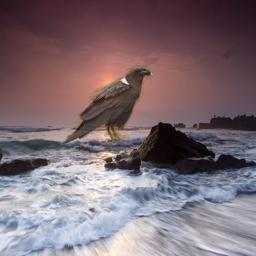Crow: (60, 65, 154, 148)
